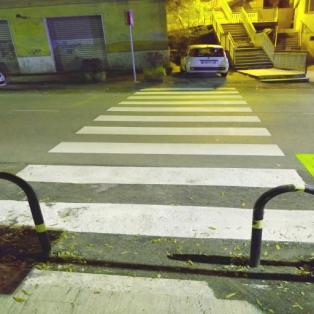Paso de Cebra: (40, 124, 290, 159), (103, 99, 257, 115), (131, 87, 242, 95)
